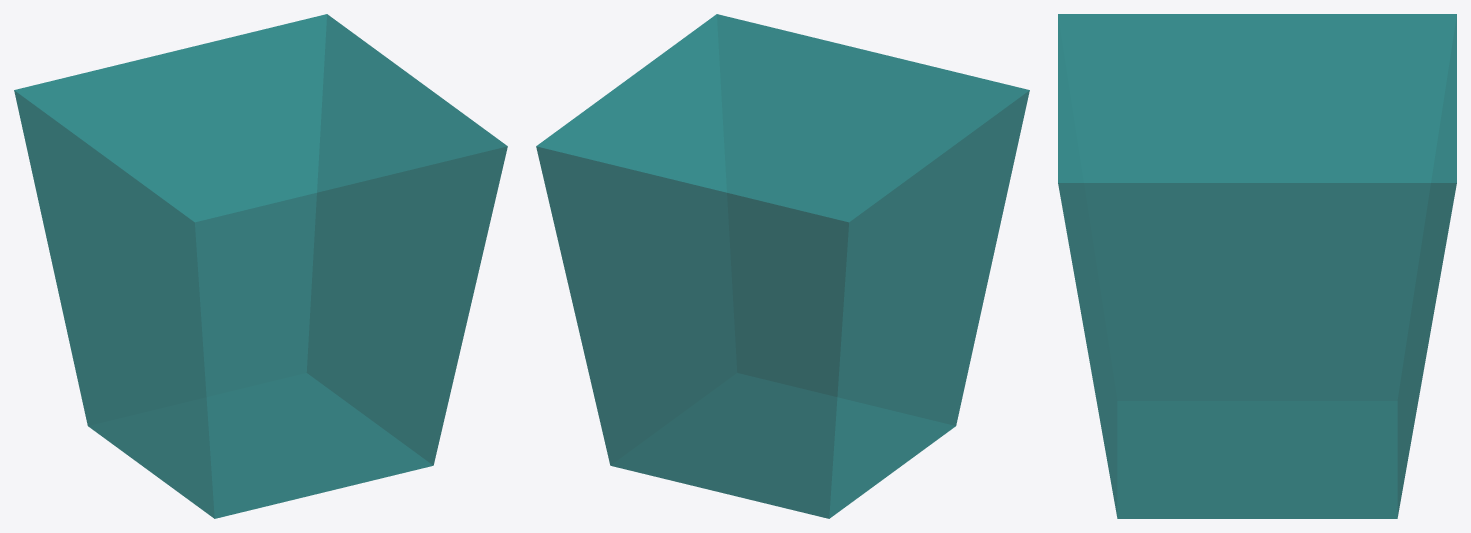
The picture shows the model from 3 angles, left to right: view 1: azimuth 30°, elevation 25°; view 2: azimuth 150°, elevation 25°; view 3: azimuth 270°, elevation 25°; orthographic projection. The views are drawn at different scales.
Visible parts, largest first — view 1: Cube_0; view 2: Cube_0; view 3: Cube_0.
Part boxes in pixels (x1,y1,x2,y2): Cube_0: (14, 14, 507, 518); Cube_0: (536, 14, 1029, 518); Cube_0: (1058, 14, 1456, 518).
Size of the model in its own units: 2 by 2 by 2.
